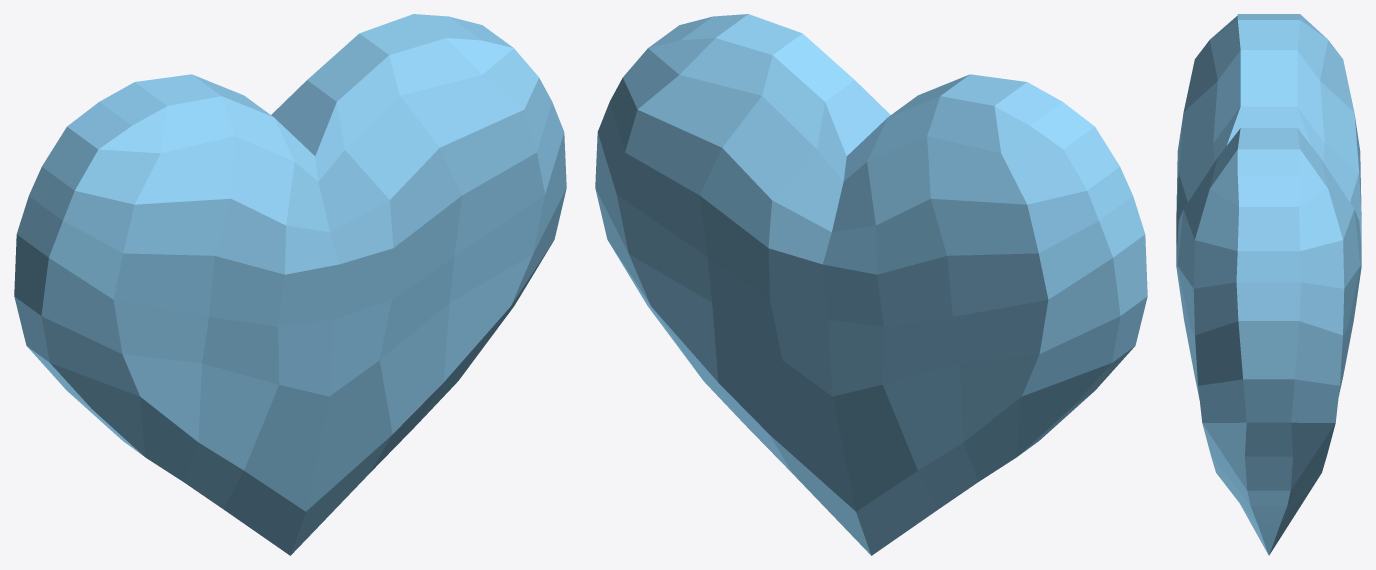
The model's file is Heart.fbx.
3 views of the same model, side by side, from view 1: azimuth 30°, elevation 25°; view 2: azimuth 150°, elevation 25°; view 3: azimuth 270°, elevation 25° (orthographic). The views are drawn at different scales.
Parts seen in each view (by area): view 1: Glass; view 2: Glass; view 3: Glass.
Boxes of the visible parts, <box> form: Glass: <box>14,14,566,555</box>; Glass: <box>595,14,1147,555</box>; Glass: <box>1176,14,1361,555</box>.
Bounding box in the file's own units: 231 × 208 × 74.19.
